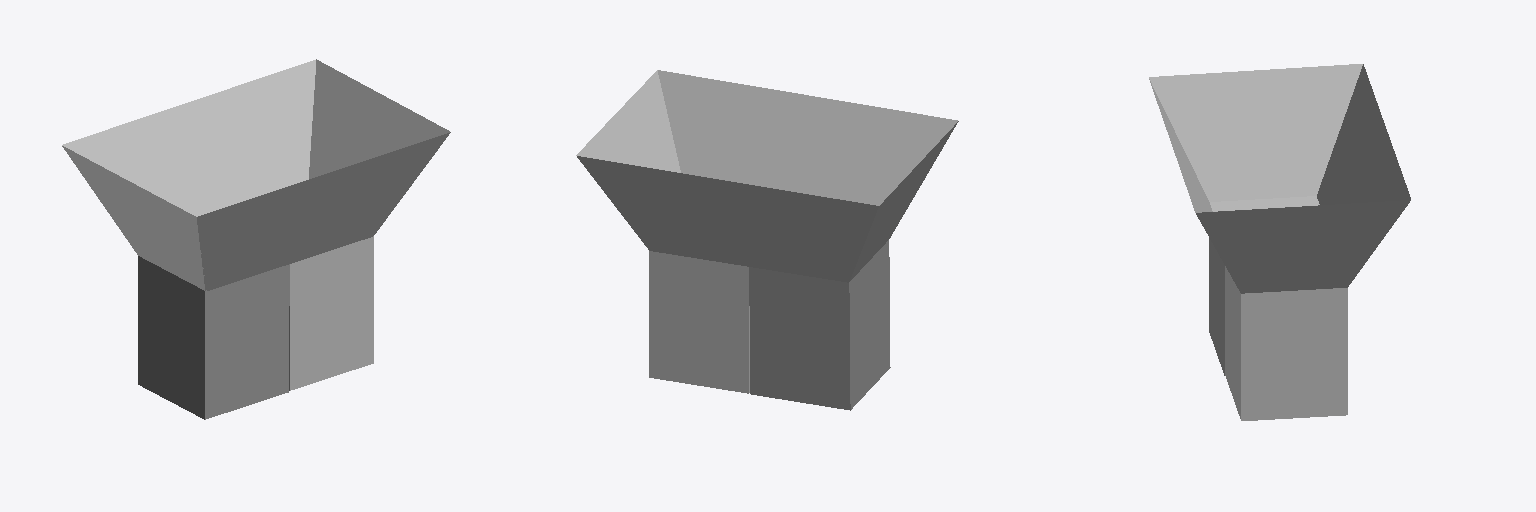
The model's file is viscliff4.obj.
The picture shows the model from 3 angles: view 1: azimuth 30°, elevation 25°; view 2: azimuth 150°, elevation 25°; view 3: azimuth 270°, elevation 25°; orthographic projection.
Parts seen in each view (by area): view 1: virArena2, realArena2, virArena, ArenaNoFloor; view 2: realArena2, virArena2, virArena, Arena, ArenaNoFloor; view 3: virArena2, realArena2, ArenaNoFloor, virArena, Arena.
Part boxes in pixels (bbox=[...]): virArena2: bbox=[62, 60, 373, 390]; realArena2: bbox=[197, 59, 450, 290]; virArena: bbox=[138, 256, 289, 419]; ArenaNoFloor: bbox=[62, 146, 437, 290]; realArena2: bbox=[576, 70, 878, 282]; virArena2: bbox=[649, 70, 957, 393]; virArena: bbox=[749, 240, 890, 410]; Arena: bbox=[658, 70, 957, 205]; ArenaNoFloor: bbox=[590, 121, 958, 282]; virArena2: bbox=[1151, 64, 1410, 420]; realArena2: bbox=[1149, 64, 1362, 280]; ArenaNoFloor: bbox=[1196, 200, 1410, 293]; virArena: bbox=[1209, 238, 1224, 375]; Arena: bbox=[1149, 65, 1363, 212].
Size of the model in its own units: 1.64 by 1.21 by 1.22.